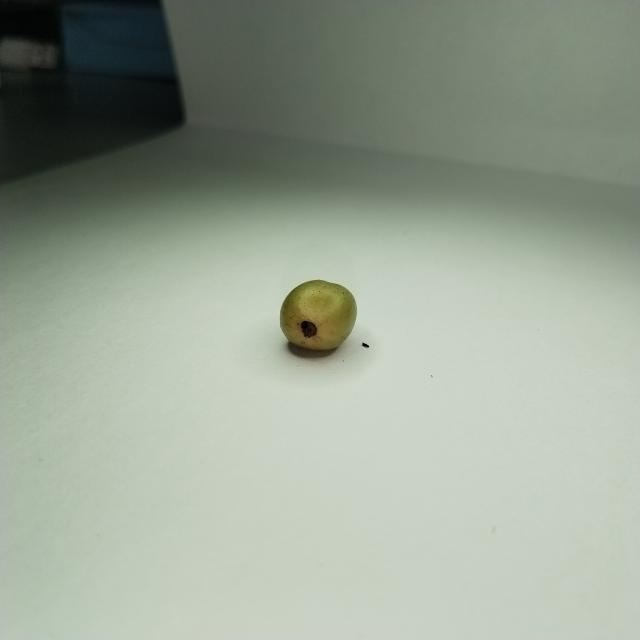Infectado: (280, 280, 356, 352)
